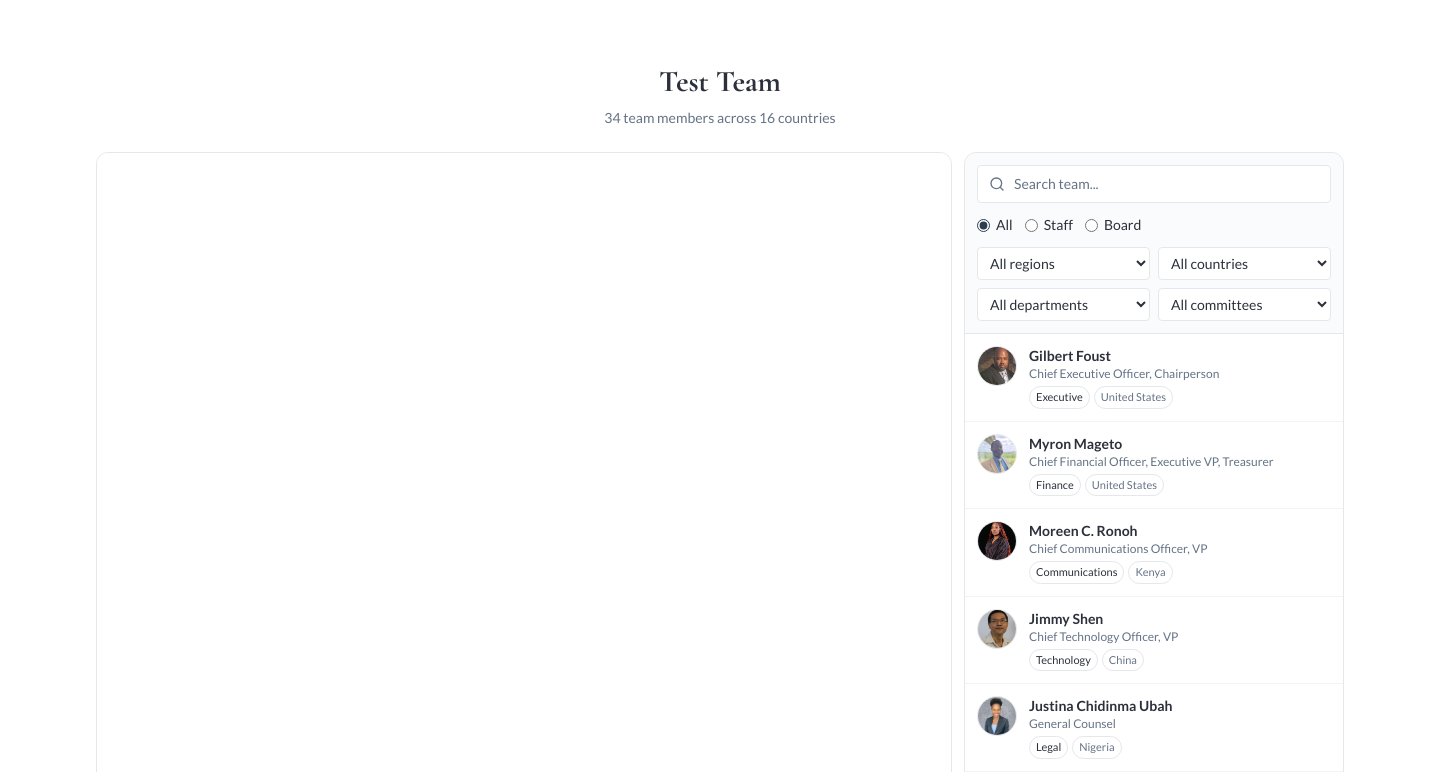
Test: TeamExplorer › filters by search query
The width and height of the screenshot is (1440, 772).
In the search field named "search team members": (1154,184) [977,165,1331,203], type "Gilbert"
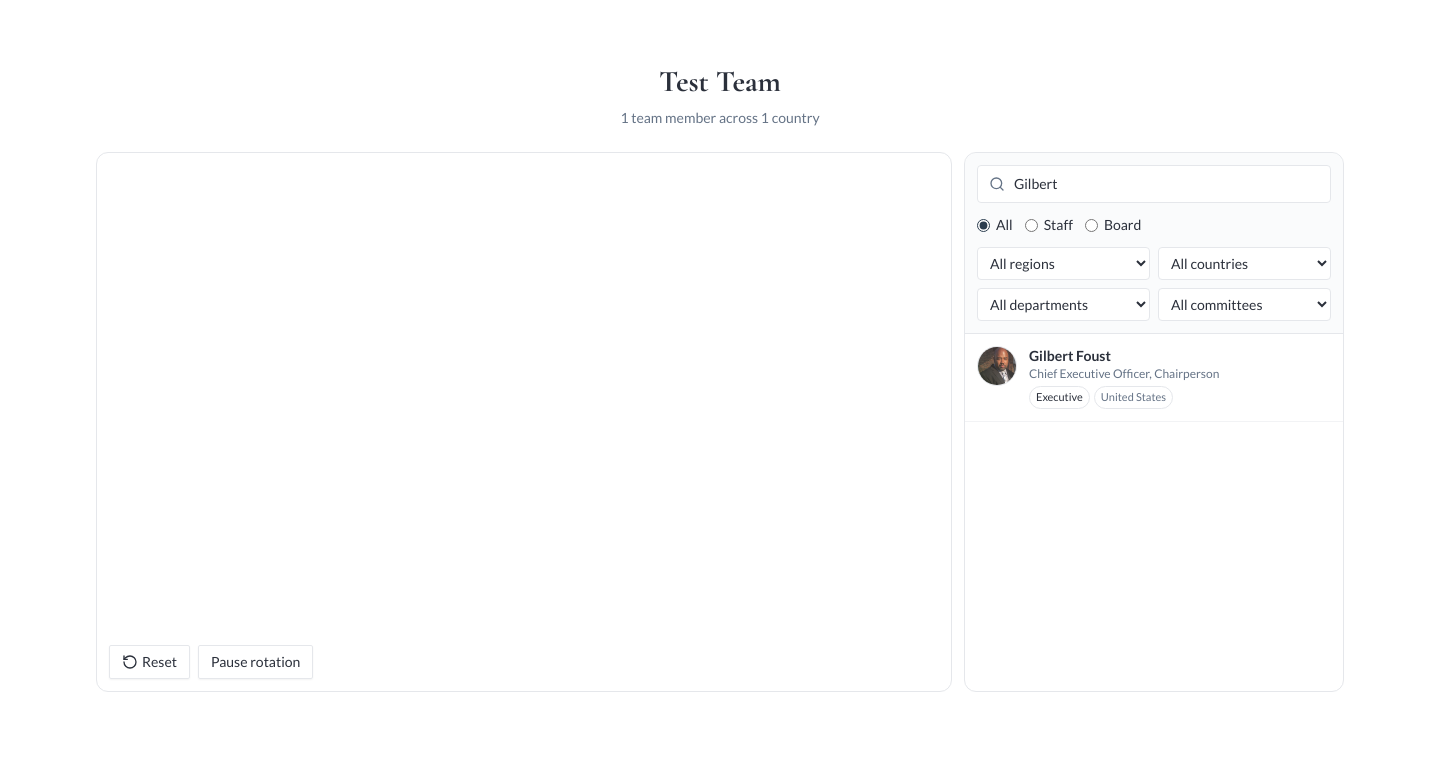
Now the text with test id "team-total" reads "1 team member", box [620,109,716,126]
